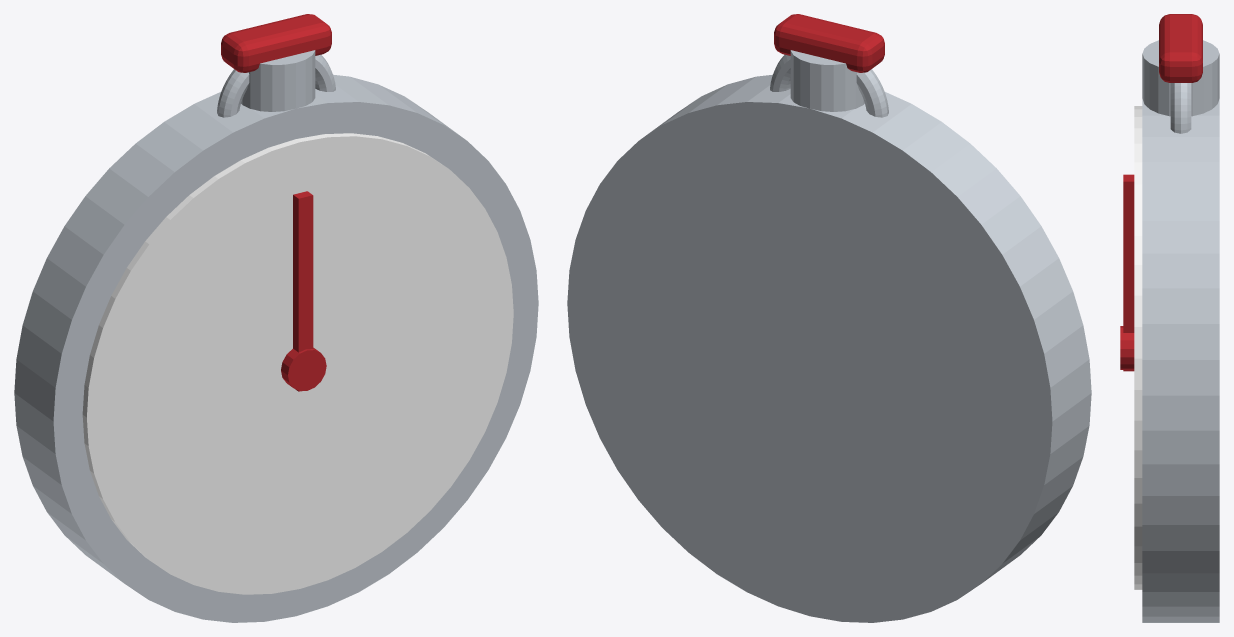
Rendered from cronometro.glb.
The picture shows the model from 3 angles, left to right: view 1: azimuth 30°, elevation 25°; view 2: azimuth 150°, elevation 25°; view 3: azimuth 270°, elevation 25°; orthographic projection.
Visible parts, largest first — view 1: caratula, Cylinder, aguja, Cube, Cylinder.001, Torus.031; view 2: Cylinder, Cube, Cylinder.001, Torus.031; view 3: Cylinder, caratula, Cylinder.001, Cube, aguja, Torus.031.
Boxes of the visible parts, left/top/right/bottom form: caratula: left=82, top=133, right=513, bottom=594; Cylinder: left=14, top=74, right=538, bottom=622; aguja: left=281, top=191, right=326, bottom=391; Cube: left=221, top=14, right=331, bottom=72; Cylinder.001: left=241, top=50, right=315, bottom=111; Torus.031: left=217, top=54, right=335, bottom=117; Cylinder: left=567, top=74, right=1091, bottom=622; Cube: left=774, top=14, right=884, bottom=72; Cylinder.001: left=790, top=50, right=864, bottom=111; Torus.031: left=770, top=54, right=888, bottom=117; Cylinder: left=1142, top=99, right=1219, bottom=622; caratula: left=1134, top=106, right=1142, bottom=589; Cylinder.001: left=1142, top=40, right=1219, bottom=116; Cube: left=1159, top=14, right=1202, bottom=82; aguja: left=1120, top=174, right=1134, bottom=371; Torus.031: left=1170, top=83, right=1191, bottom=133.
Bounding box in the file's own units: 1 × 1.13 × 0.18.
